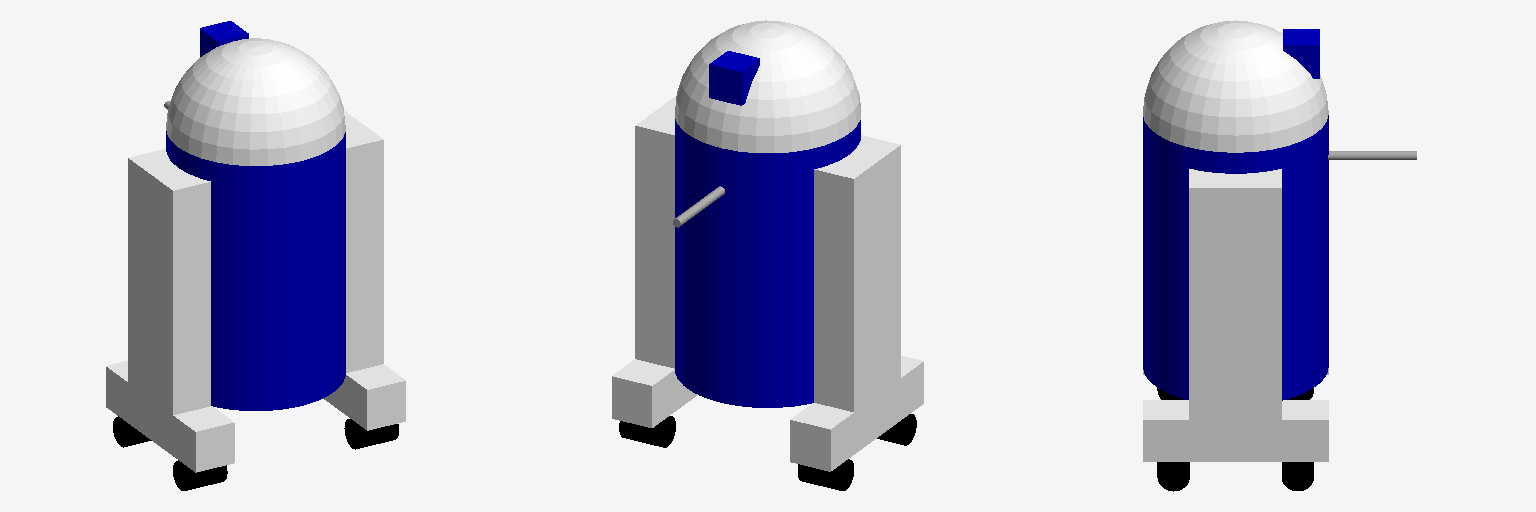
URDF robot description (artoo):
<?xml version="1.0"?>
<robot name="artoo">
  <link name="base_link">
    <visual>
      <geometry>
        <cylinder length="0.6" radius="0.2"/>
      </geometry>
      <material name="blue">
        <color rgba="0 0 .8 1"/>
      </material>
    </visual>
  </link>

  <link name="right_leg">
    <visual>
      <geometry>
        <box size="0.6 .2 .1"/>
      </geometry>
      <origin rpy="0 1.57075 0" xyz="0 0 -0.3"/>
      <material name="white">
        <color rgba="1 1 1 1"/>
      </material>
    </visual>
  </link>

  <joint name="base_to_right_leg" type="fixed">
    <parent link="base_link"/>
    <child link="right_leg"/>
    <origin xyz="0.22 0 .25"/>
  </joint>

  <link name="right_base">
    <visual>
      <geometry>
        <box size=".1 0.4 .1"/>
      </geometry>
      <material name="white"/>
    </visual>
  </link>

  <joint name="right_base_joint" type="fixed">
    <parent link="right_leg"/>
    <child link="right_base"/>
    <origin xyz="0 0 -0.6"/>
  </joint>

  <link name="right_front_wheel">
    <visual>
      <geometry>
        <cylinder length=".1" radius="0.035"/>
      </geometry>
      <material name="black">
        <color rgba="0 0 0 1"/>
      </material>
    </visual>
  </link>

  <joint name="right_front_wheel_joint" type="fixed">
    <parent link="right_base"/>
    <child link="right_front_wheel"/>
    <origin rpy="0 1.57075 0" xyz="0 0.133333333333 -0.085"/>
  </joint>

  <link name="right_back_wheel">
    <visual>
      <geometry>
        <cylinder length=".1" radius="0.035"/>
      </geometry>
      <material name="black"/>
    </visual>
  </link>

  <joint name="right_back_wheel_joint" type="fixed">
    <parent link="right_base"/>
    <child link="right_back_wheel"/>
    <origin rpy="0 1.57075 0" xyz="0 -0.133333333333 -0.085"/>
  </joint>

  <link name="left_leg">
    <visual>
      <geometry>
        <box size="0.6 .2 .1"/>
      </geometry>
      <origin rpy="0 1.57075 0" xyz="0 0 -0.3"/>
      <material name="white"/>
    </visual>
  </link>

  <joint name="base_to_left_leg" type="fixed">
    <parent link="base_link"/>
    <child link="left_leg"/>
    <origin xyz="-0.22 0 .25"/>
  </joint>

  <link name="left_base">
    <visual>
      <geometry>
        <box size=".1 0.4 .1"/>
      </geometry>
      <material name="white"/>
    </visual>
  </link>

  <joint name="left_base_joint" type="fixed">
    <parent link="left_leg"/>
    <child link="left_base"/>
    <origin xyz="0 0 -0.6"/>
  </joint>

  <link name="left_front_wheel">
    <visual>
      <geometry>
        <cylinder length=".1" radius="0.035"/>
      </geometry>
      <material name="black"/>
    </visual>
  </link>

  <joint name="left_front_wheel_joint" type="fixed">
    <parent link="left_base"/>
    <child link="left_front_wheel"/>
    <origin rpy="0 1.57075 0" xyz="0 0.133333333333 -0.085"/>
  </joint>

  <link name="left_back_wheel">
    <visual>
      <geometry>
        <cylinder length=".1" radius="0.035"/>
      </geometry>
      <material name="black"/>
    </visual>
  </link>

  <joint name="left_back_wheel_joint" type="fixed">
    <parent link="left_base"/>
    <child link="left_back_wheel"/>
    <origin rpy="0 1.57075 0" xyz="0 -0.133333333333 -0.085"/>
  </joint>

  <joint name="gripper_extension" type="fixed">
    <parent link="base_link"/>
    <child link="gripper_pole"/>
    <origin rpy="0 0 1.57075" xyz="0 0.19 .2"/>
  </joint>

  <link name="gripper_pole">
    <visual>
      <geometry>
        <cylinder length="0.2" radius=".01"/>
      </geometry>
      <origin rpy="0 1.57075 0 " xyz="0.1 0 0"/>
      <material name="Gray">
        <color rgba=".7 .7 .7 1"/>
      </material>
    </visual>
  </link>

  <joint name="left_gripper_joint" type="fixed">
    <origin rpy="0 0 0" xyz="0.2 0.01 0"/>
    <parent link="gripper_pole"/>
    <child link="left_gripper"/>
  </joint>

  <link name="left_gripper">
    <visual>
      <origin rpy="0.0 0 0" xyz="0 0 0"/>
      <geometry>
        <mesh filename="package://pr2_description/meshes/gripper_v0/l_finger.dae"/>
      </geometry>
    </visual>
  </link>

  <joint name="left_tip_joint" type="fixed">
    <parent link="left_gripper"/>
    <child link="left_tip"/>
  </joint>

  <link name="left_tip">
    <visual>
      <origin rpy="0.0 0 0" xyz="0.09137 0.00495 0"/>
      <geometry>
        <mesh filename="package://pr2_description/meshes/gripper_v0/l_finger_tip.dae"/>
      </geometry>
    </visual>
  </link>

  <joint name="right_gripper_joint" type="fixed">
    <origin rpy="0 0 0" xyz="0.2 -0.01 0"/>
    <parent link="gripper_pole"/>
    <child link="right_gripper"/>
  </joint>

  <link name="right_gripper">
    <visual>
      <origin rpy="-3.1415 0 0" xyz="0 0 0"/>
      <geometry>
        <mesh filename="package://pr2_description/meshes/gripper_v0/l_finger.dae"/>
      </geometry>
    </visual>
  </link>

  <joint name="right_tip_joint" type="fixed">
    <parent link="right_gripper"/>
    <child link="right_tip"/>
  </joint>

  <link name="right_tip">
    <visual>
      <origin rpy="-3.1415 0 0" xyz="0.09137 0.00495 0"/>
      <geometry>
        <mesh filename="package://pr2_description/meshes/gripper_v0/l_finger_tip.dae"/>
      </geometry>
    </visual>
  </link>

  <link name="head">
    <visual>
      <geometry>
        <sphere radius="0.2"/>
      </geometry>
      <material name="white"/>
    </visual>
  </link>

  <joint name="head_swivel" type="fixed">
    <parent link="base_link"/>
    <child link="head"/>
    <origin xyz="0 0 0.3"/>
  </joint>

  <link name="box">
    <visual>
      <geometry>
        <box size=".08 .08 .08"/>
      </geometry>
      <material name="blue"/>
    </visual>
  </link>

  <joint name="tobox" type="fixed">
    <parent link="head"/>
    <child link="box"/>
    <origin xyz="0 0.1414 0.1414"/>
  </joint>

</robot>

--- What the picture shows (computed from the rendered views, not written in the file) ---
3 views of the same robot in one strip: view 1: azimuth 30°, elevation 25°; view 2: azimuth 150°, elevation 25°; view 3: azimuth 270°, elevation 25° (orthographic).
Robot: artoo — 16 links, 15 joints (15 fixed); root link base_link; default pose: all joints at 0.
Visible links, largest first — view 1: base_link, left_leg, head, right_leg, left_base, right_base, right_back_wheel, left_back_wheel, box, left_front_wheel; view 2: base_link, left_leg, head, right_leg, left_base, right_base, box, right_front_wheel, left_front_wheel, left_back_wheel, gripper_pole; view 3: base_link, right_leg, head, right_base, box, right_back_wheel, right_front_wheel, gripper_pole.
Boxes of the visible links, x1,y1,x2,y2 form: base_link: (166,131,345,410); left_leg: (128,149,210,414); head: (166,38,345,165); right_leg: (344,111,383,372); left_base: (106,361,234,472); right_base: (323,364,405,430); right_back_wheel: (344,419,398,449); left_back_wheel: (173,460,227,490); box: (200,21,248,56); left_front_wheel: (113,416,151,447); base_link: (675,119,860,407); left_leg: (814,135,900,411); head: (675,20,860,152); right_leg: (635,95,676,368); left_base: (790,356,923,471); right_base: (612,359,697,427); box: (709,51,759,105); right_front_wheel: (619,416,675,447); left_front_wheel: (798,459,853,490); left_back_wheel: (877,414,916,445); gripper_pole: (673,186,724,227); base_link: (1143,115,1328,400); right_leg: (1189,169,1281,440); head: (1143,20,1328,152); right_base: (1143,400,1328,461); box: (1283,29,1319,78); right_back_wheel: (1157,462,1189,491); right_front_wheel: (1282,462,1313,490); gripper_pole: (1328,151,1416,159).
Bounding box of the posed robot: 0.54 × 0.59 × 0.97 m (x, y, z).
Meshes: 2 distinct files referenced, 0 mesh visuals loaded (none loaded); not drawn: 4 (reference not matched to a file when rendering).